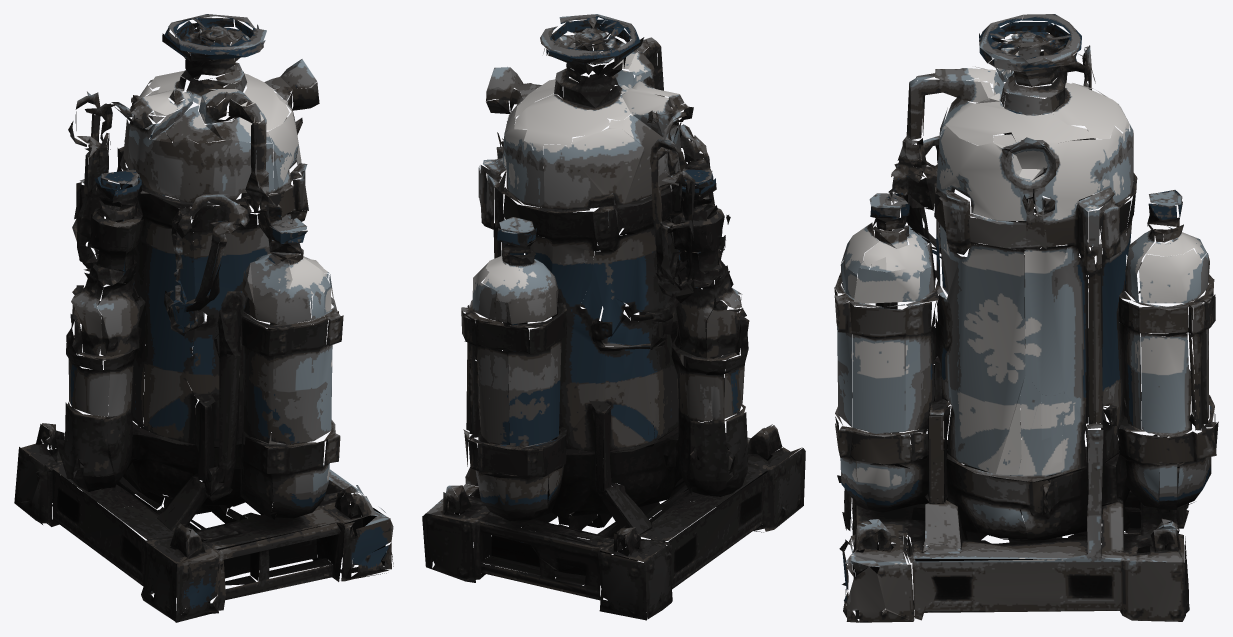
The model's file is coolant.glb.
3 views of the same model, side by side, from view 1: azimuth 30°, elevation 25°; view 2: azimuth 150°, elevation 25°; view 3: azimuth 270°, elevation 25° (orthographic). The views are drawn at different scales.
Parts seen in each view (by area): view 1: coolant; view 2: coolant; view 3: coolant.
Part boxes in pixels (x1,y1,x2,y2): coolant: (14, 14, 393, 622); coolant: (422, 14, 805, 620); coolant: (834, 14, 1218, 622).
Size of the model in its own units: 0.3526 by 0.6759 by 0.4317.
Materials: 1 (1 with a texture image).
